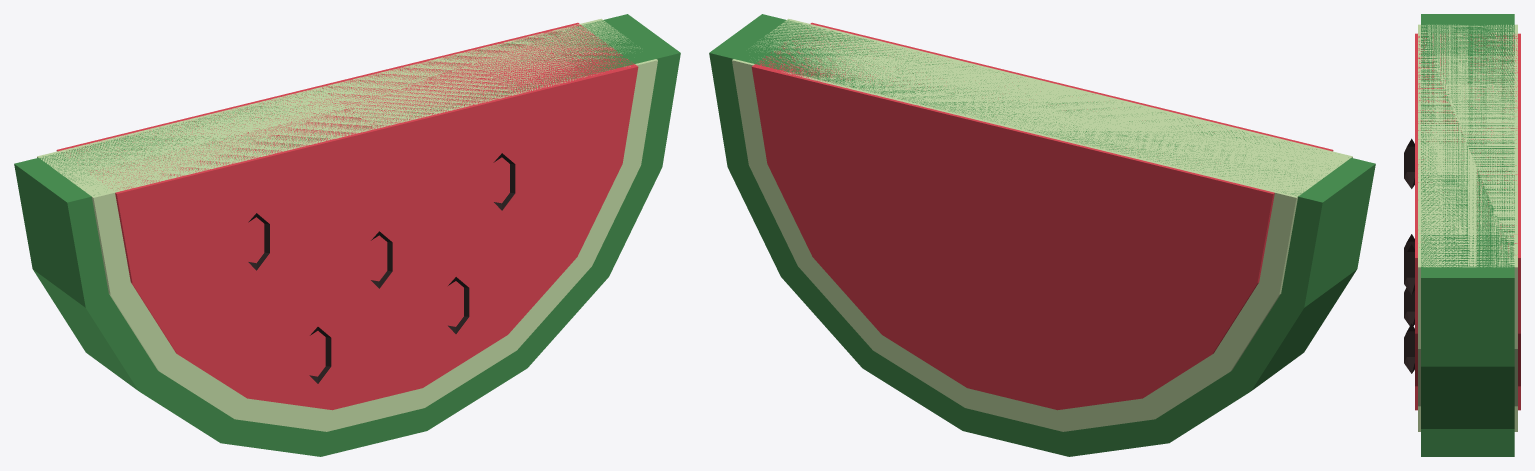
The model's file is Food_Watermelon.obj.
3 views of the same model, side by side, from view 1: azimuth 30°, elevation 25°; view 2: azimuth 150°, elevation 25°; view 3: azimuth 270°, elevation 25° (orthographic). The views are drawn at different scales.
Bounding box in the file's own units: 2 × 0.9848 × 0.3747.
